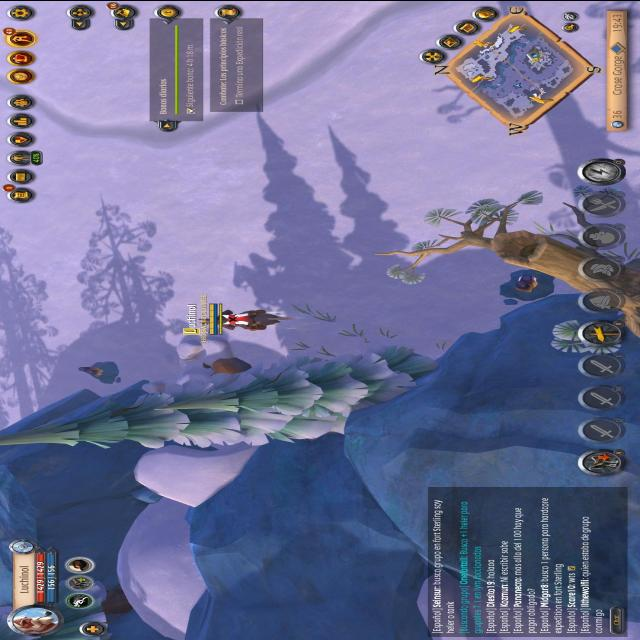piedra_cobre: (74, 357, 128, 385)
